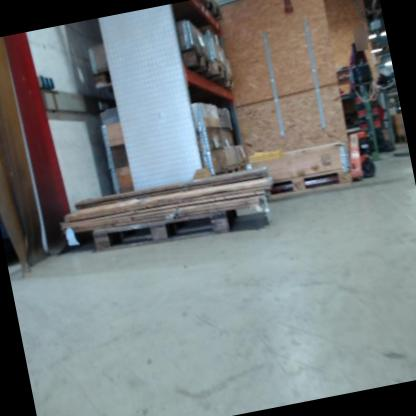pallet: (92, 201, 242, 258), (265, 163, 353, 203)
pallet_truck: (338, 117, 383, 187)
